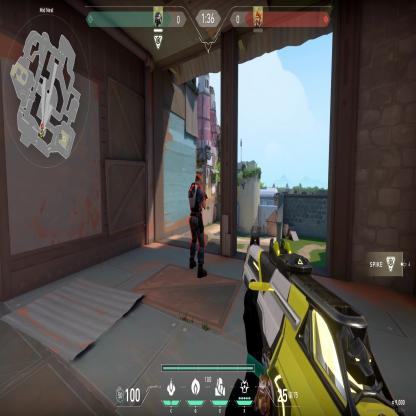enemy: (186, 172, 209, 282)
